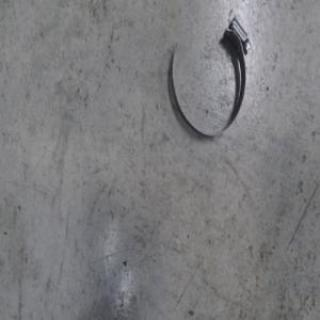AdjustableClamptrack_idkeyframe: (168, 12, 251, 142)
